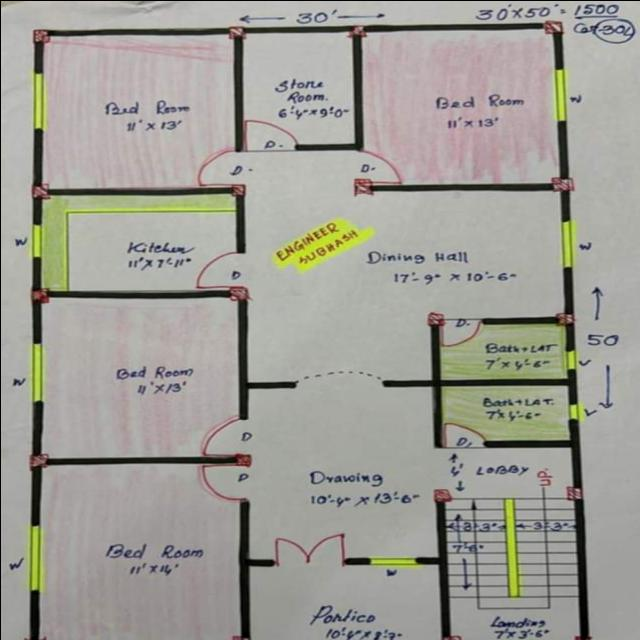column: (350, 174, 382, 200), (546, 172, 578, 197), (217, 282, 255, 302), (536, 15, 568, 38), (546, 308, 582, 328), (22, 23, 54, 44), (342, 20, 370, 44), (562, 480, 590, 504), (219, 22, 252, 42), (221, 178, 251, 200), (422, 306, 451, 328), (24, 181, 54, 202), (22, 284, 56, 302), (24, 451, 52, 472), (428, 486, 454, 506), (229, 451, 257, 468), (223, 631, 260, 640), (567, 631, 596, 640), (434, 631, 463, 640), (18, 633, 49, 640)
